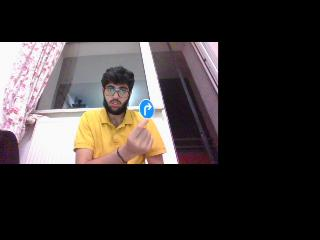right: (140, 99, 154, 119)
